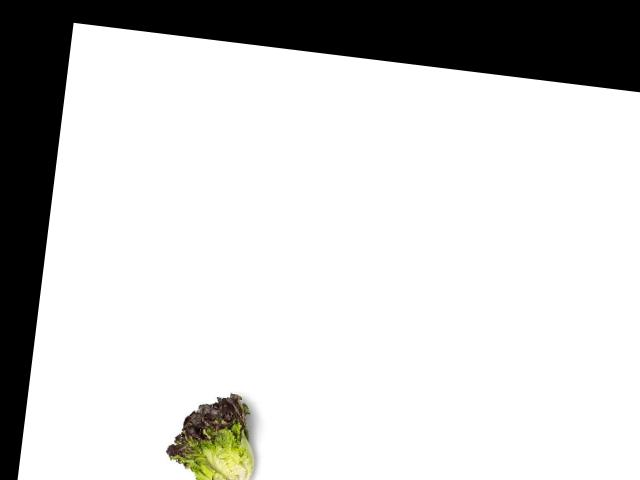lettuce: (164, 380, 263, 480)
